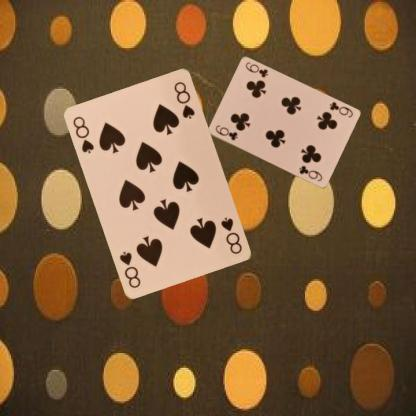6c: (326, 99, 354, 119), (212, 122, 238, 141)
8s: (218, 214, 244, 256), (70, 114, 96, 155)
